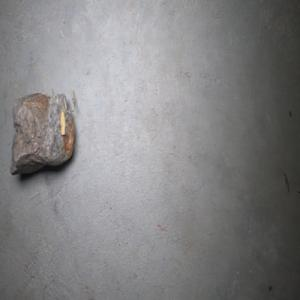Rock: (10, 88, 75, 175)
